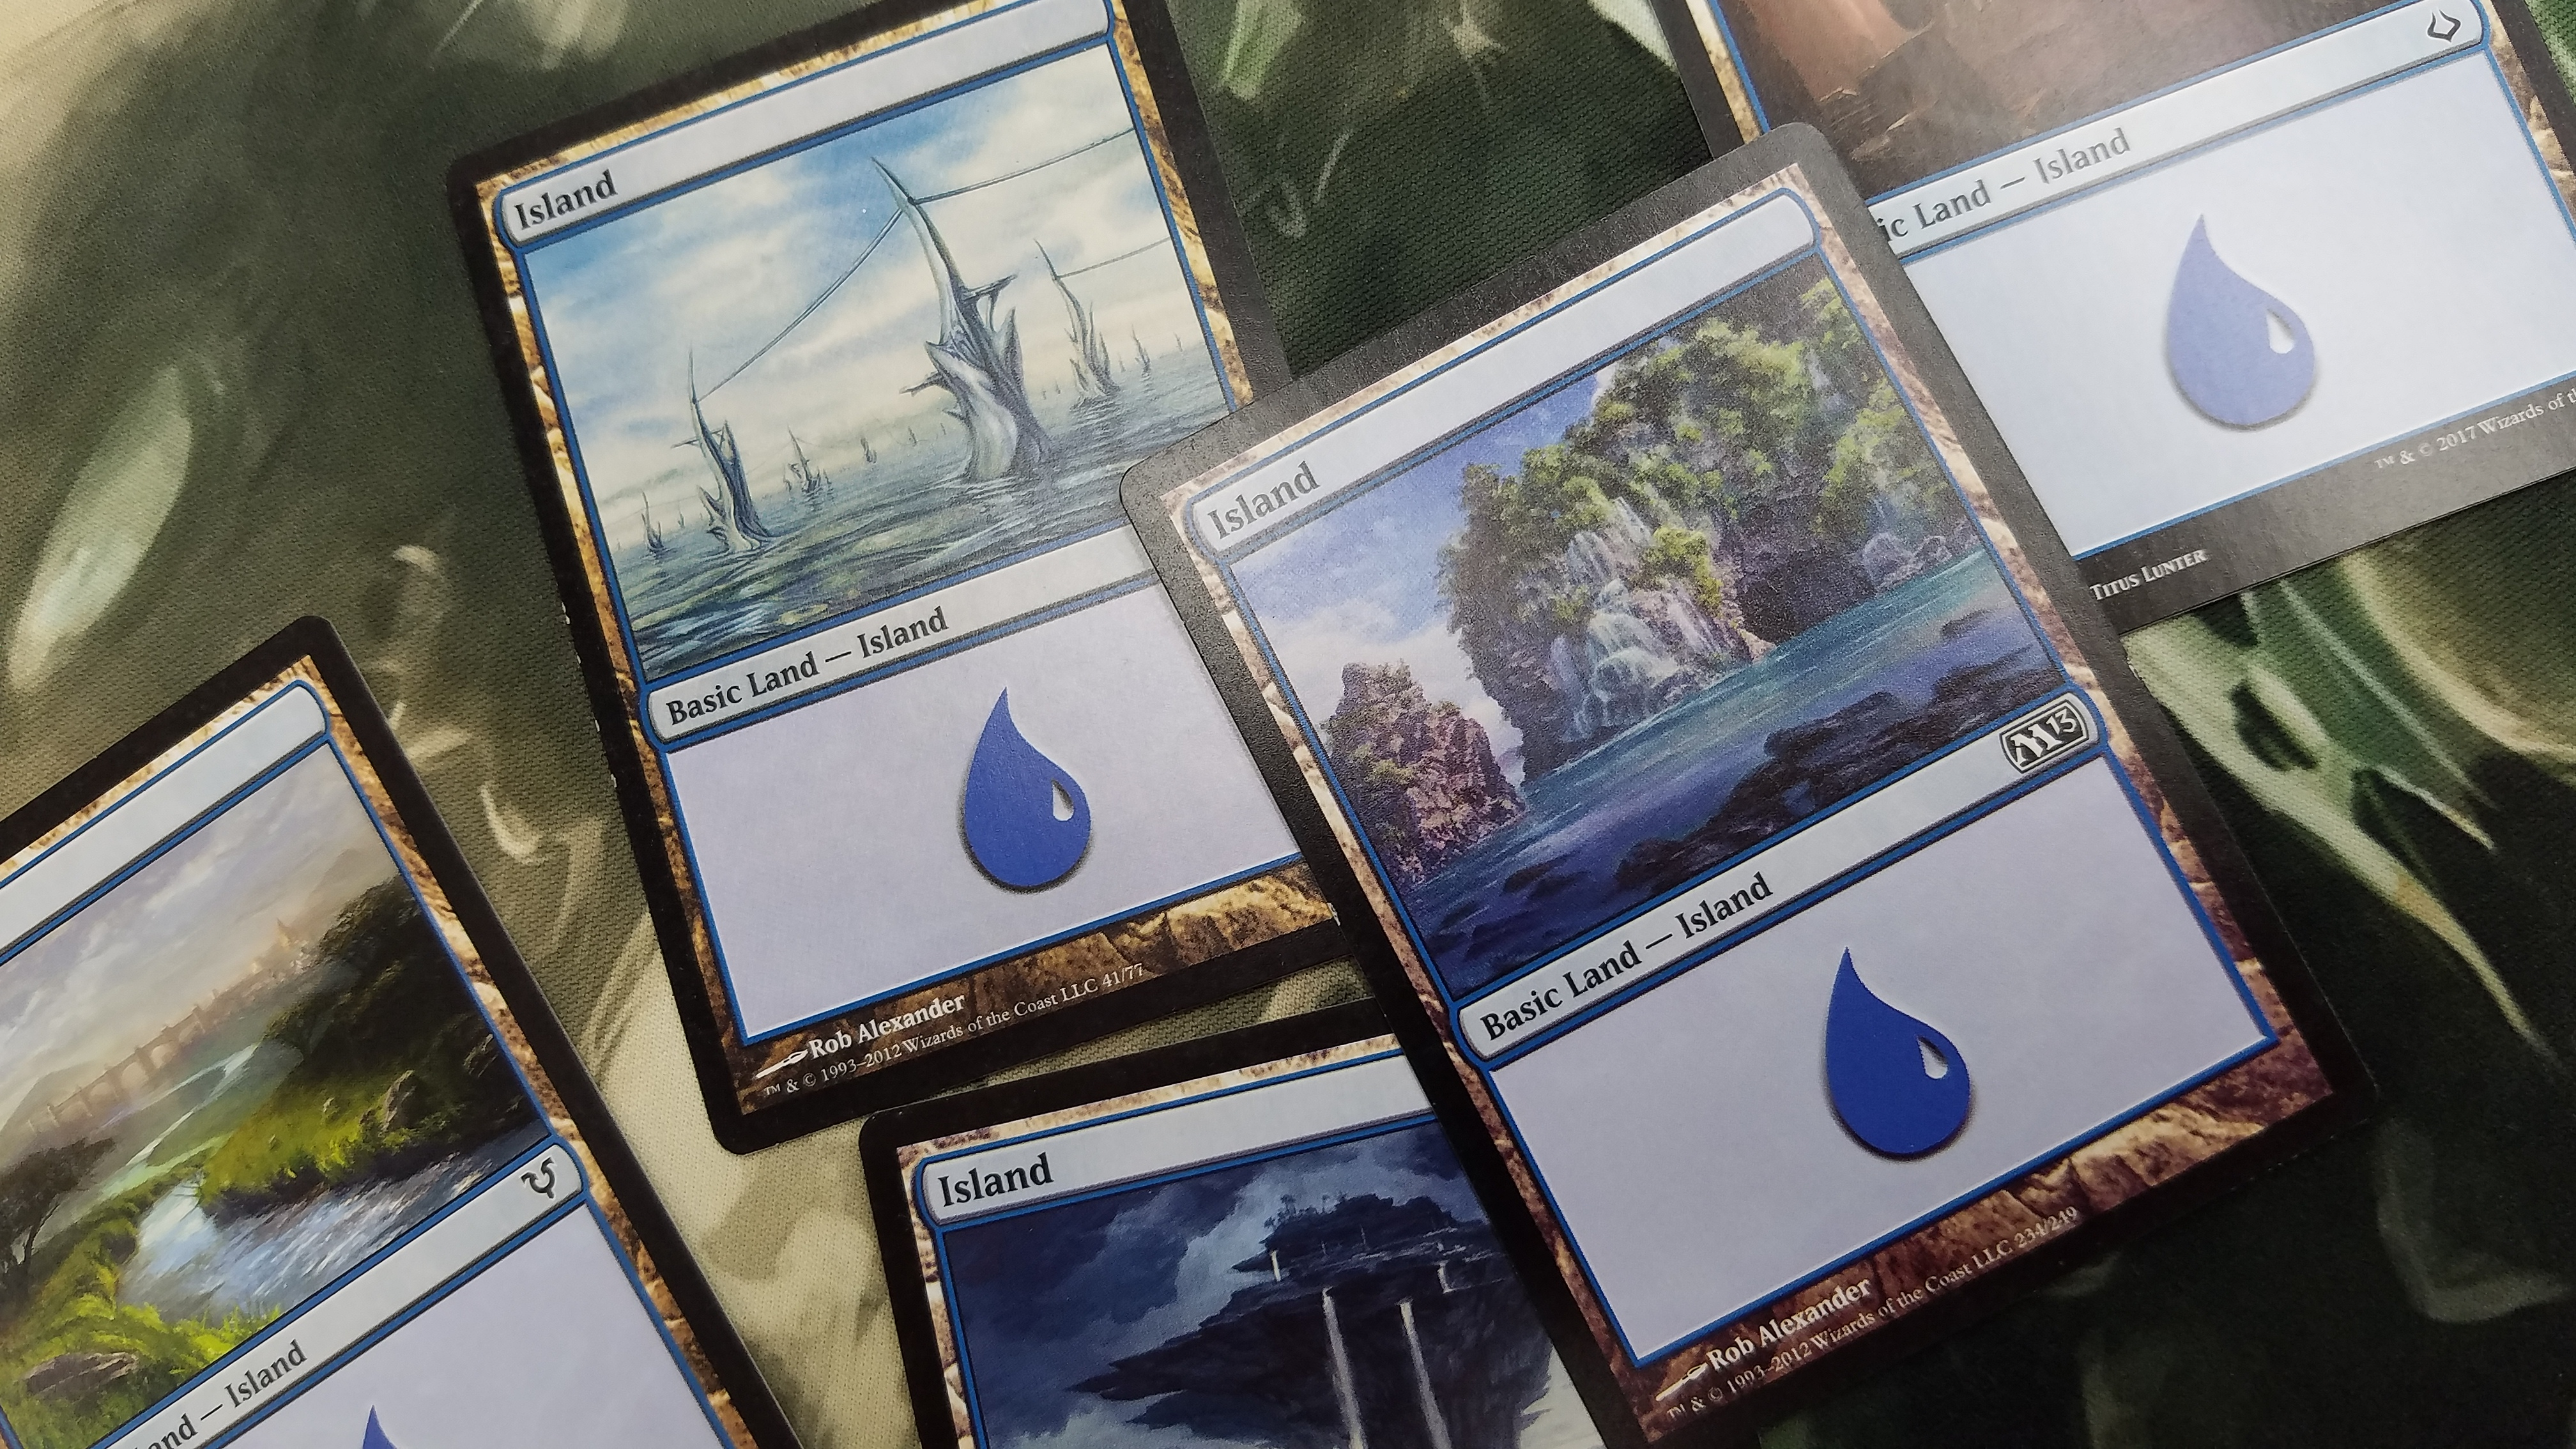Card: (1125, 129, 2373, 1449), (432, 0, 1387, 1152), (856, 1003, 1769, 1449)
